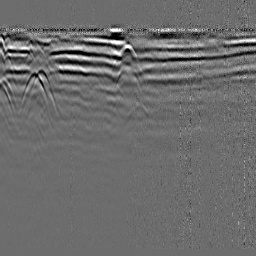cavity: (119, 41, 137, 60)
